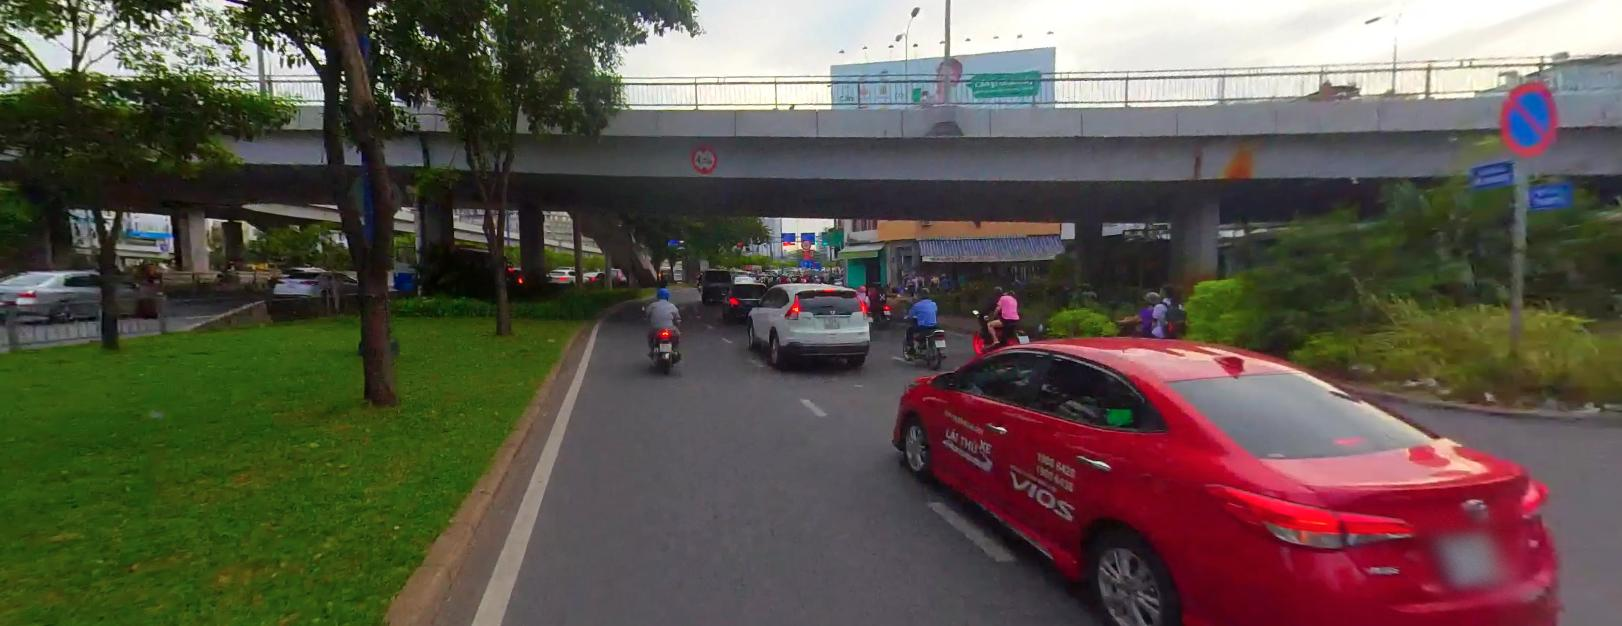Cam con lai: (689, 144, 716, 173), (801, 238, 810, 247)
Cam dung va do: (1501, 82, 1556, 155)
